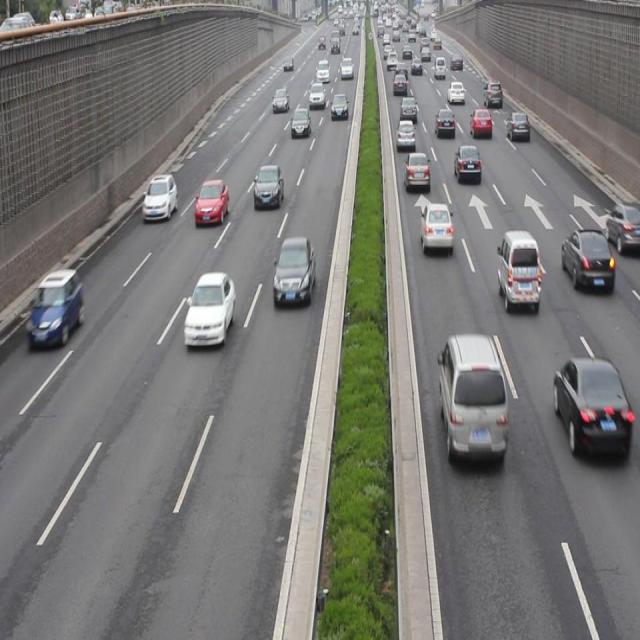car: (552, 354, 627, 456), (28, 268, 82, 350), (184, 270, 235, 348), (560, 227, 614, 292), (272, 236, 316, 306), (604, 202, 640, 252), (142, 173, 177, 222), (194, 177, 229, 225), (420, 202, 452, 252), (253, 163, 285, 210), (453, 143, 481, 185), (404, 149, 429, 192), (506, 110, 529, 141), (434, 108, 455, 140), (470, 108, 491, 140), (290, 106, 310, 139), (396, 118, 415, 150), (398, 95, 416, 123)
truck: (438, 332, 507, 457), (496, 230, 539, 307)
